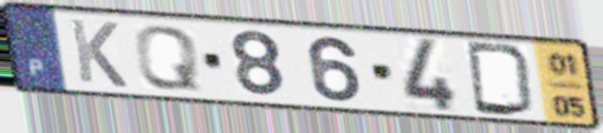4: (399, 35, 461, 115)
6: (304, 33, 366, 105)
8: (228, 28, 289, 99)
D: (463, 39, 539, 119)
K: (65, 16, 131, 91)
Q: (131, 23, 204, 92)
